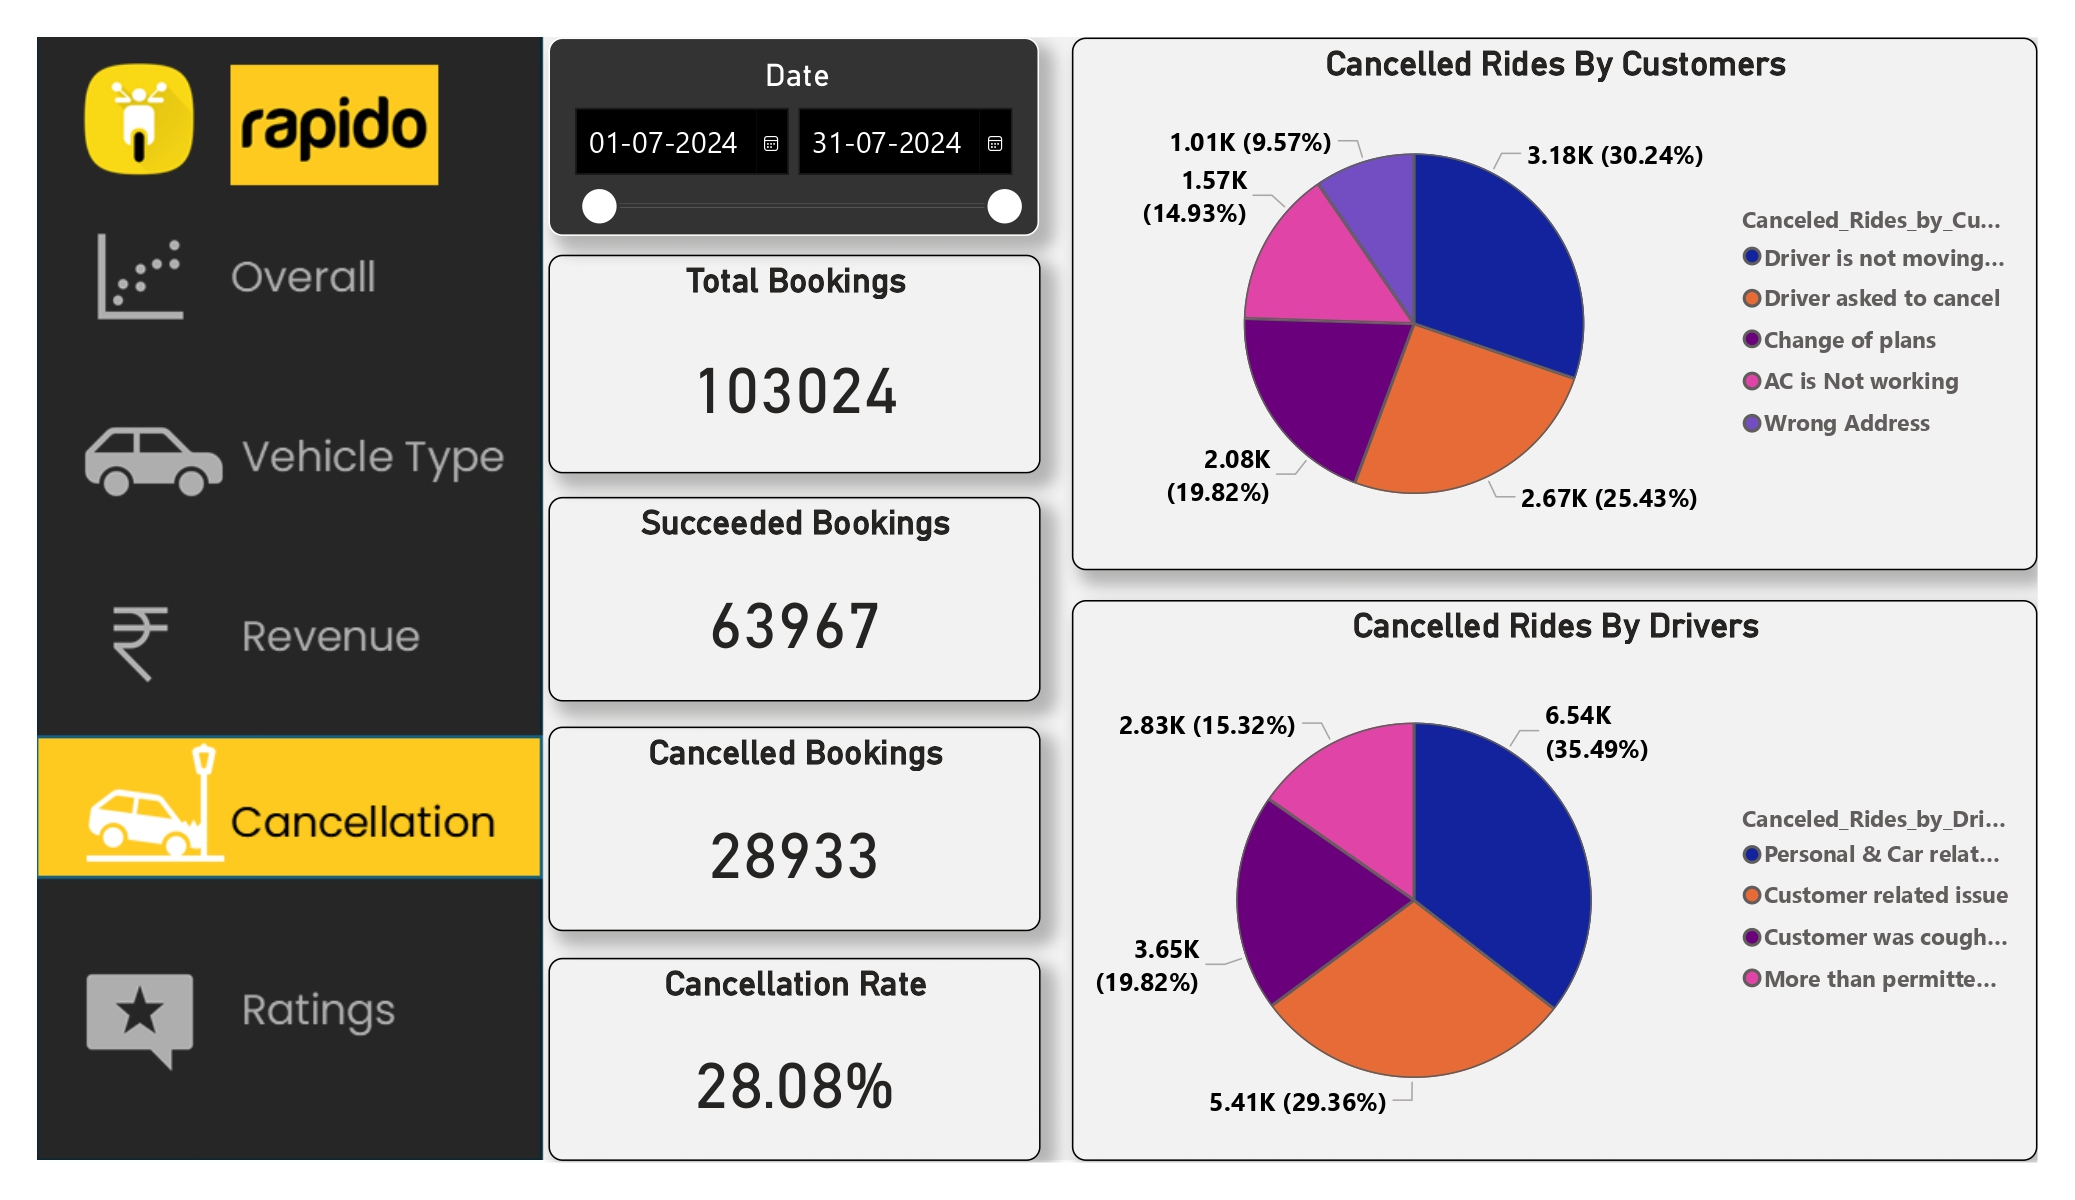

What the dashboard file says about the page in this screenshot:
{"tool":"powerbi","page":{"name":"Cancellation","canvas":[1280,720],"ordinal":3},"visuals":[{"type":"pieChart","title":"Cancelled Rides By Customers","fields":{"Category":["July.Canceled_Rides_by_Customer"],"Y":["CountNonNull(July.Canceled_Rides_by_Customer)"]},"box":[661.7,0,617.8,340.7],"z":0},{"type":"pieChart","title":"Cancelled Rides By Drivers","fields":{"Category":["July.Canceled_Rides_by_Driver"],"Y":["CountNonNull(July.Canceled_Rides_by_Driver)"]},"box":[661.7,360.4,617.8,358.9],"z":1000},{"type":"slicer","title":"Date","fields":{"Values":["July.Date"]},"box":[327.1,0,313.4,127.2],"z":2000},{"type":"card","title":"Succeeded Bookings","fields":{"Values":["CountNonNull(July.Booking_ID)"]},"box":[327.1,293.8,315,131.7],"z":3000},{"type":"card","title":"Total Bookings","fields":{"Values":["CountNonNull(July.Booking_ID)"]},"box":[327.1,139.3,315,139.3],"z":4000},{"type":"card","title":"Cancelled Bookings","fields":{"Values":["CountNonNull(July.Booking_ID)"]},"box":[327.1,440.6,315,131.7],"z":5000},{"type":"card","title":"Cancellation Rate","fields":{"Values":["July.Canceled Percentage"]},"box":[327.1,589,315,130.2],"z":6000}]}

Visuals, with their boxes in screenshot pixels (x1, y1, x2, y2):
"Cancelled Rides By Customers" pieChart: 1071:38:2037:570
"Cancelled Rides By Drivers" pieChart: 1071:601:2037:1161
"Date" slicer: 549:38:1038:236
"Succeeded Bookings" card: 549:497:1041:702
"Total Bookings" card: 549:255:1041:473
"Cancelled Bookings" card: 549:726:1041:932
"Cancellation Rate" card: 549:958:1041:1161
